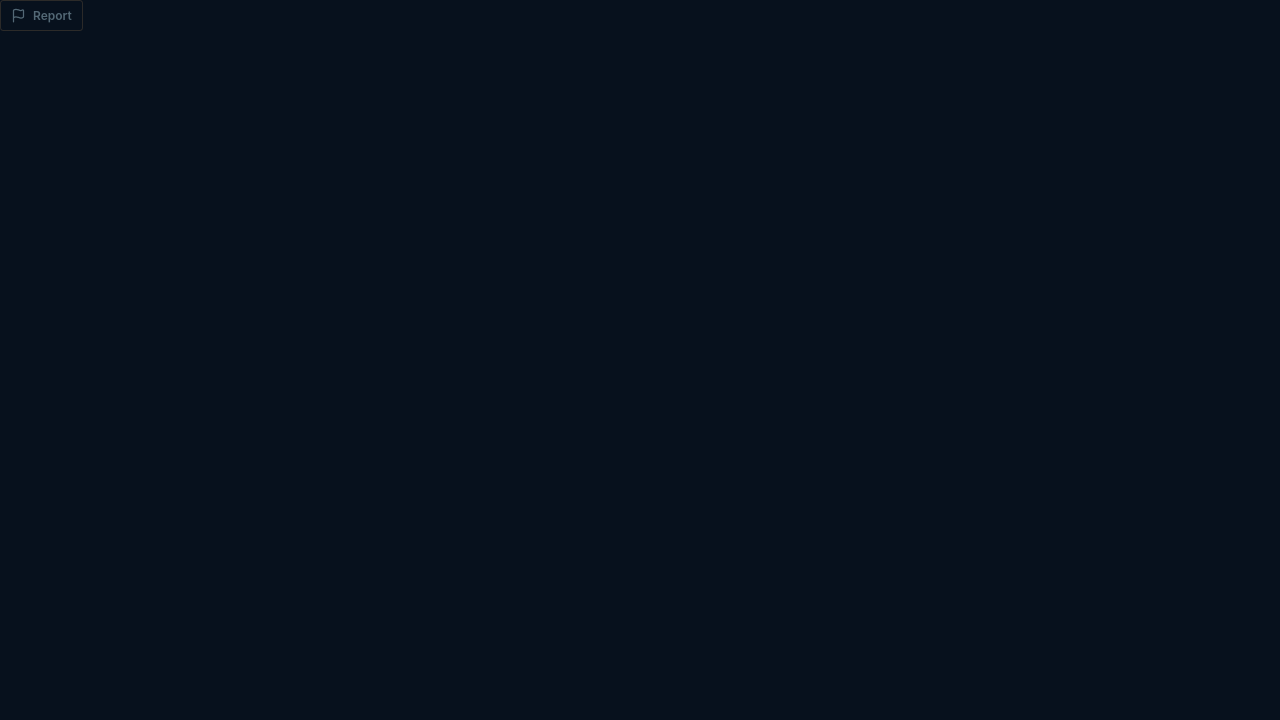
Test: LessonReportDialog › keeps submission disabled until the report is meaningful and sends the selected category
Click the button "Report" at (41, 16), box [0,0,83,31]
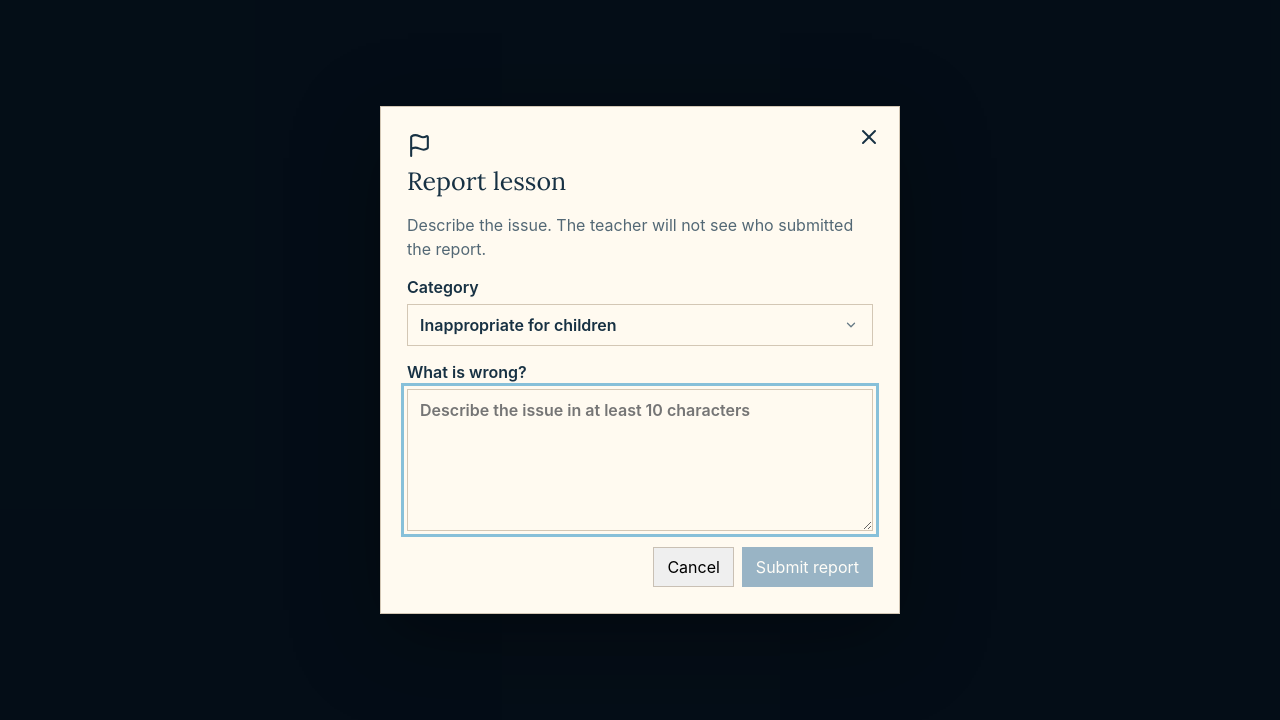
Now the button "Submit report" is disabled, box [742,547,873,587]
Select "Personal data" in the dropdown at (640, 325), box [407,304,873,346]
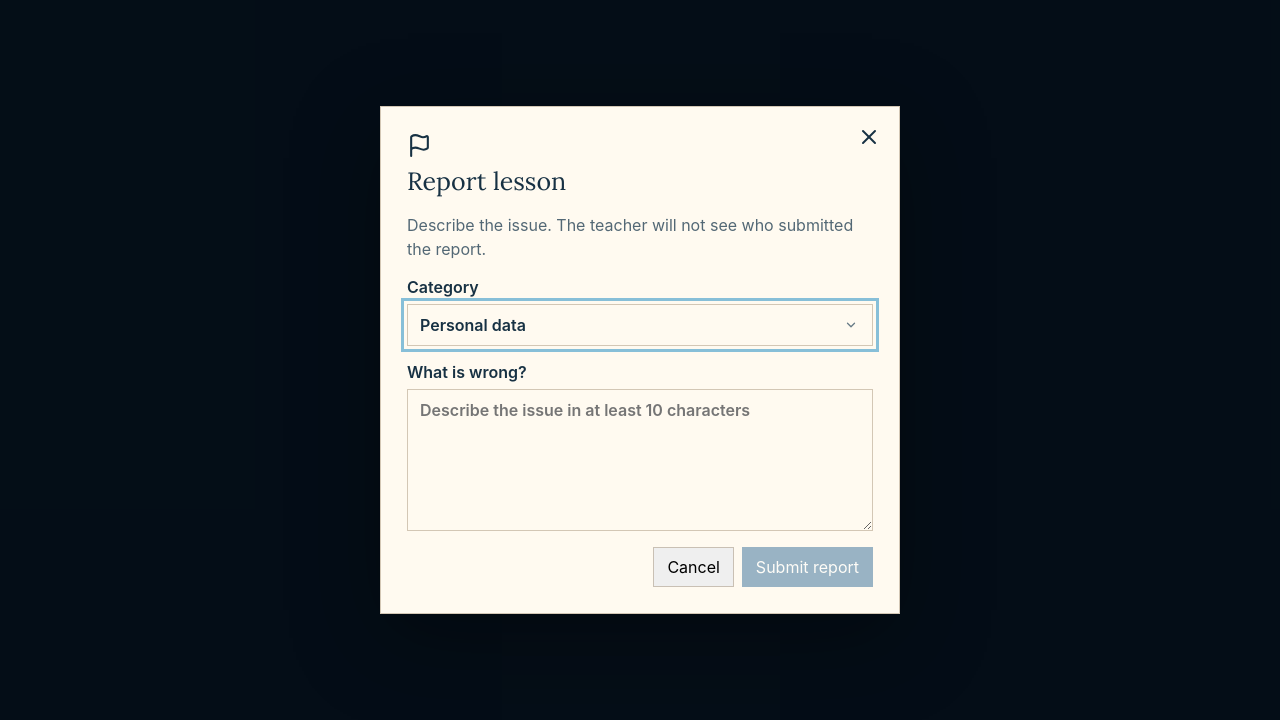
Type "This lesson exposes private contact details." into the text box at (640, 460), box [407,389,873,531]
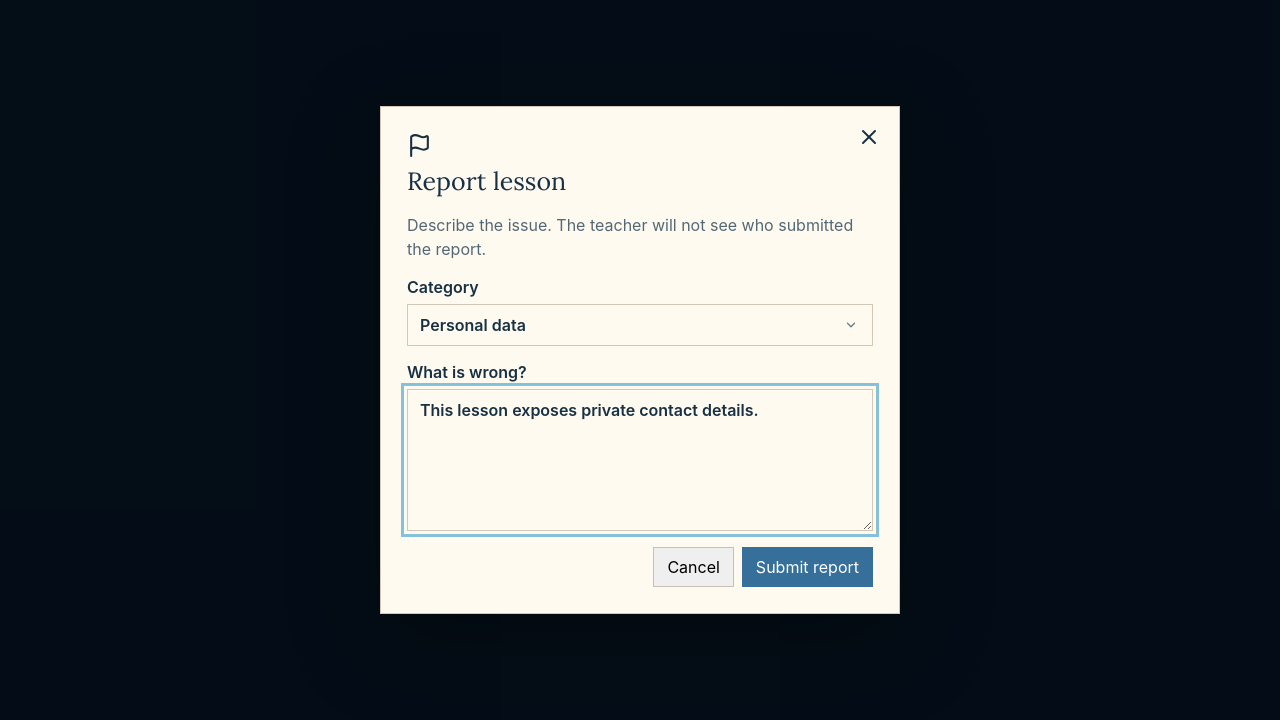
Click the button "Submit report" at (807, 567), box [742,547,873,587]
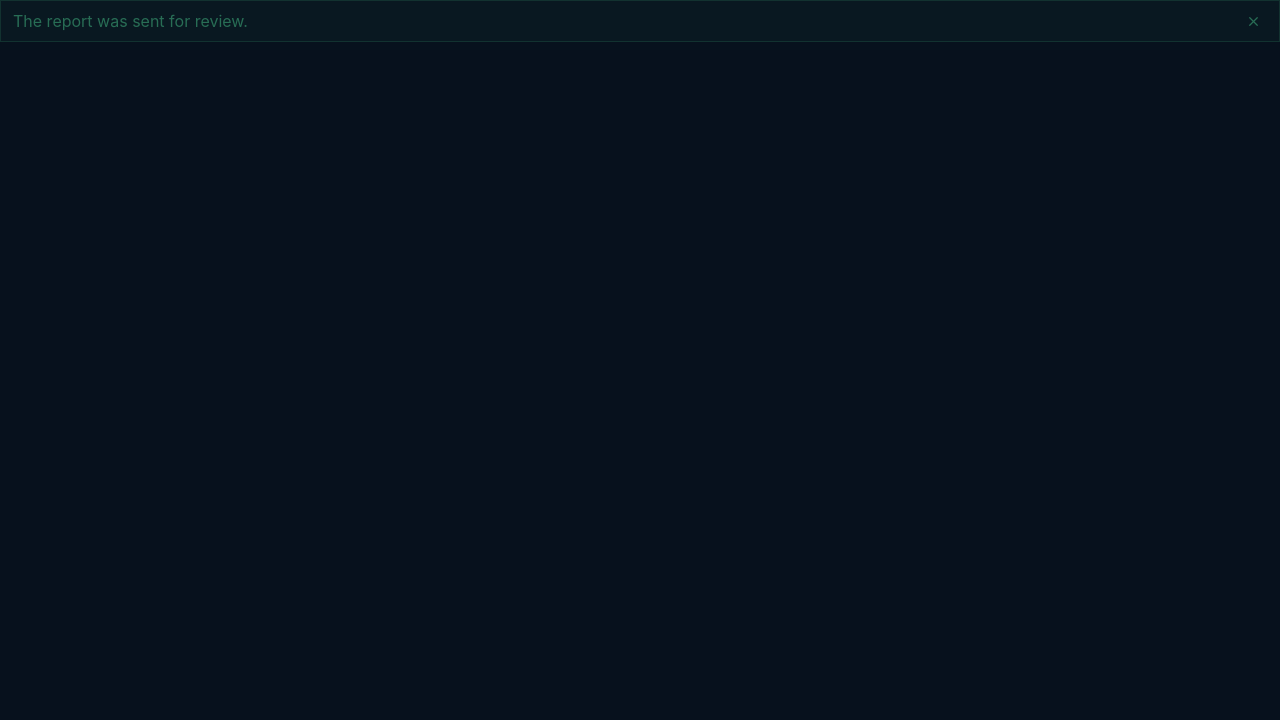
Now the text "The report was sent for review." is shown, box [13,11,248,31]
